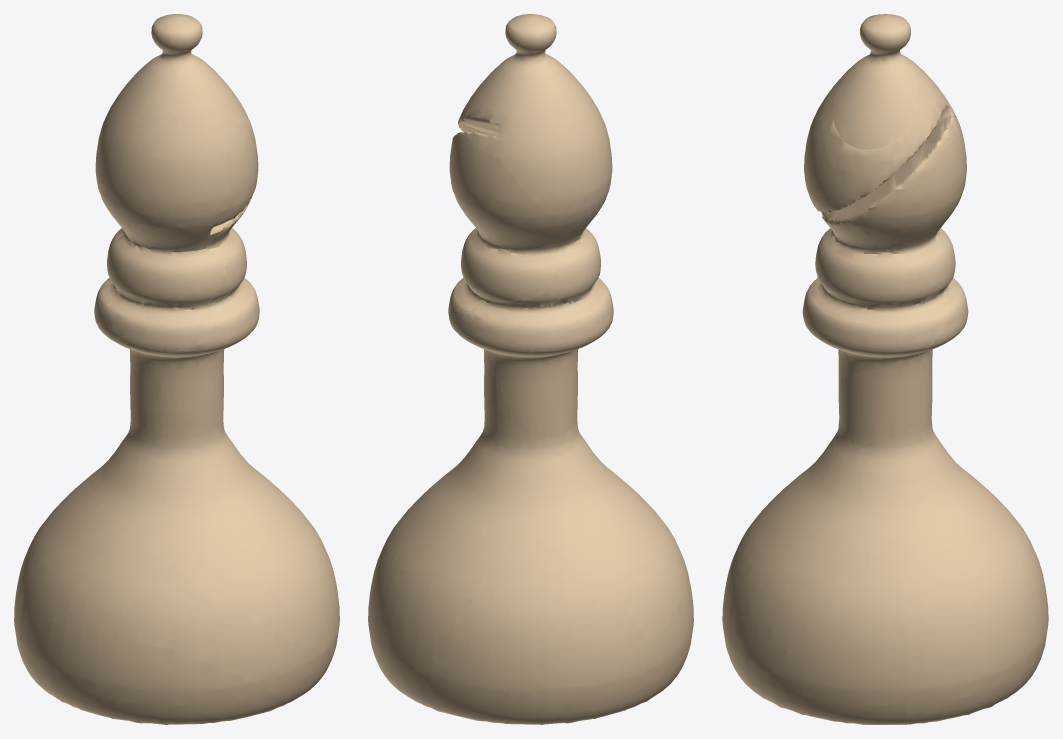
Rendered from bishop.glb.
The picture shows the model from 3 angles, left to right: view 1: azimuth 30°, elevation 25°; view 2: azimuth 150°, elevation 25°; view 3: azimuth 270°, elevation 25°; orthographic projection.
Parts seen in each view (by area): view 1: chunk-04.009, chunk-02.009, chunk-00.009, chunk-12.007, chunk-10.009, chunk-14.005, chunk-15.005, chunk-09.009, chunk-08.009, chunk-07.009, chunk-06.009, chunk-13.007 (+1 smaller); view 2: chunk-01.009, chunk-03.009, chunk-07.009, chunk-11.009, chunk-05.009, chunk-02.009, chunk-14.005, chunk-13.007, chunk-04.009, chunk-10.009, chunk-00.009, chunk-15.005 (+3 smaller); view 3: chunk-03.009, chunk-04.009, chunk-09.009, chunk-11.009, chunk-05.009, chunk-15.005, chunk-06.009, chunk-14.005, chunk-02.009, chunk-12.007, chunk-08.009, chunk-07.009 (+1 smaller).
Part boxes in pixels (x1=…): chunk-04.009: x1=89, y1=419, x2=336, y2=649; chunk-02.009: x1=22, y1=481, x2=333, y2=703; chunk-00.009: x1=20, y1=622, x2=286, y2=724; chunk-12.007: x1=103, y1=116, x2=256, y2=229; chunk-10.009: x1=107, y1=189, x2=252, y2=353; chunk-14.005: x1=113, y1=54, x2=255, y2=151; chunk-15.005: x1=151, y1=14, x2=247, y2=120; chunk-09.009: x1=208, y1=188, x2=259, y2=344; chunk-08.009: x1=137, y1=336, x2=233, y2=408; chunk-07.009: x1=94, y1=277, x2=169, y2=427; chunk-06.009: x1=161, y1=357, x2=224, y2=433; chunk-13.007: x1=95, y1=103, x2=137, y2=214; chunk-01.009: x1=424, y1=545, x2=649, y2=724; chunk-03.009: x1=368, y1=481, x2=510, y2=706; chunk-07.009: x1=457, y1=293, x2=611, y2=437; chunk-11.009: x1=449, y1=120, x2=576, y2=301; chunk-05.009: x1=438, y1=410, x2=564, y2=554; chunk-02.009: x1=543, y1=493, x2=686, y2=649; chunk-14.005: x1=458, y1=58, x2=588, y2=159; chunk-13.007: x1=498, y1=105, x2=599, y2=229; chunk-04.009: x1=560, y1=406, x2=636, y2=520; chunk-10.009: x1=546, y1=218, x2=613, y2=321; chunk-00.009: x1=630, y1=566, x2=693, y2=708; chunk-15.005: x1=469, y1=14, x2=556, y2=99; chunk-03.009: x1=772, y1=493, x2=1047, y2=724; chunk-04.009: x1=729, y1=411, x2=859, y2=679; chunk-09.009: x1=802, y1=200, x2=950, y2=357; chunk-11.009: x1=825, y1=128, x2=966, y2=289; chunk-05.009: x1=855, y1=401, x2=990, y2=559; chunk-15.005: x1=833, y1=14, x2=918, y2=149; chunk-06.009: x1=838, y1=354, x2=932, y2=449; chunk-14.005: x1=822, y1=54, x2=960, y2=173; chunk-02.009: x1=722, y1=529, x2=786, y2=708; chunk-12.007: x1=804, y1=91, x2=836, y2=199; chunk-08.009: x1=802, y1=290, x2=955, y2=379; chunk-07.009: x1=924, y1=278, x2=968, y2=383.
Bounding box in the file's own units: 0.6588 × 1.44 × 0.6588.
